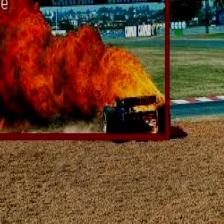fire: (0, 0, 169, 138)
